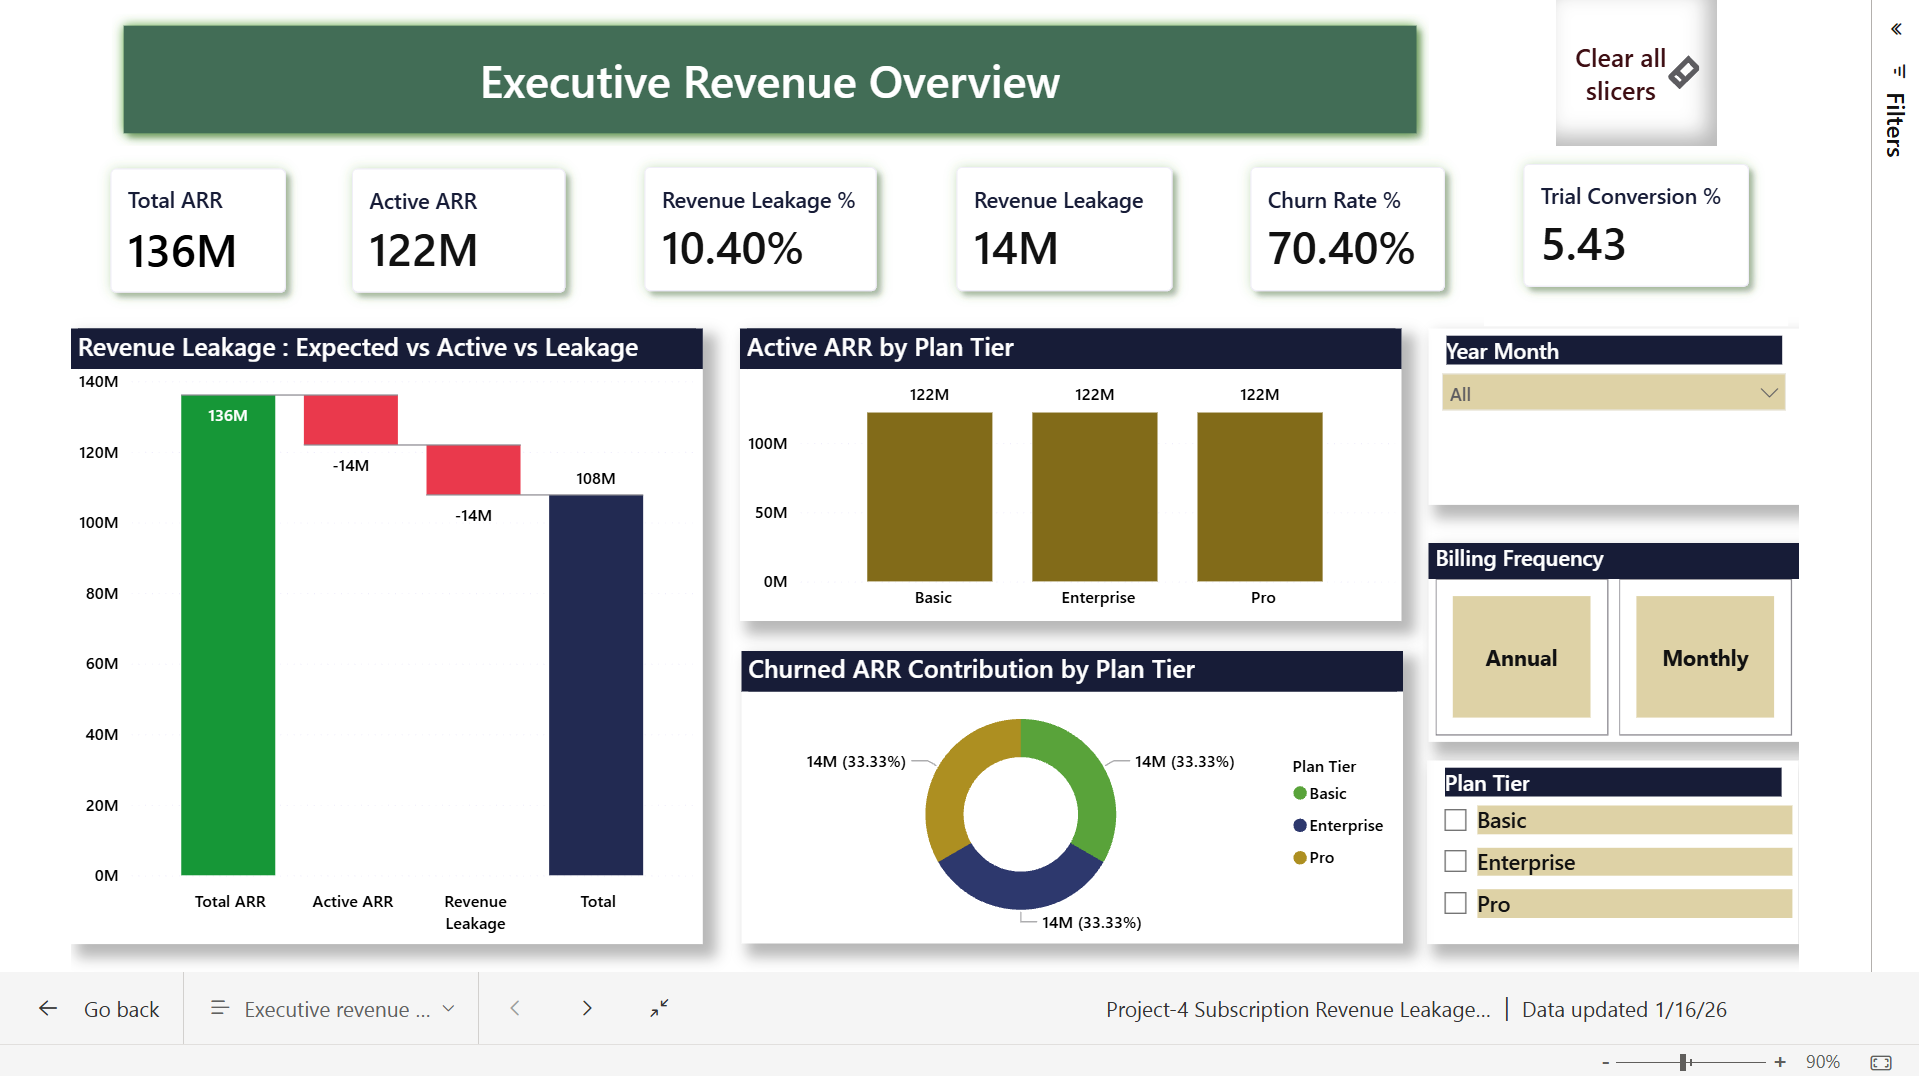

Layout of this report page (visuals, bound fields, positions):
{"tool":"powerbi","page":{"name":"Executive revenue Overview","canvas":[1280,720],"ordinal":0},"visuals":[{"type":"cardVisual","fields":{"Data":["_Measures.Active ARR"]},"box":[178.9,96.1,217,150.7],"z":0},{"type":"cardVisual","fields":{"Data":["_Measures.Total ARR"]},"box":[0,96.1,188.8,150.7],"z":1},{"type":"cardVisual","fields":{"Data":["_Measures.Revenue Leakage"]},"box":[626.1,94.4,218.7,150.7],"z":2},{"type":"cardVisual","fields":{"Data":["_Measures.Churn Rate %"]},"box":[844.8,94.4,202.1,150.7],"z":3},{"type":"cardVisual","fields":{"Data":["_Measures.Revenue Leakage %"]},"box":[395.9,94.4,230.3,150.7],"z":4},{"type":"waterfallChart","title":"Revenue Leakage : Expected vs  Active vs Leakage","fields":{"Category":["Revenue_Waterfall.Step"],"Y":["Dim_Account.Revenue Waterfall Value"]},"box":[0,243,467.8,455.7],"z":5},{"type":"advancedSlicerVisual","fields":{"Values":["Dim_Plan.Billing Frequency"]},"box":[1005.5,402.5,275,147.4],"z":6},{"type":"slicer","fields":{"Values":["Dim_Plan.Plan Tier"]},"box":[1004.6,563,275.4,135.7],"z":7},{"type":"slicer","fields":{"Values":["Dim_Date.Year Month"]},"box":[1005.5,243.5,275,130.9],"z":8},{"type":"clusteredColumnChart","title":"Active ARR by Plan Tier","fields":{"Category":["Dim_Plan.Plan Tier"],"Y":["_Measures.Active ARR"]},"box":[495.3,243.5,490.3,217],"z":9},{"type":"donutChart","title":"Churned ARR Contribution by Plan Tier","fields":{"Category":["Dim_Plan.Plan Tier"],"Y":["_Measures.Churned ARR"]},"box":[496.2,482,490.1,216.7],"z":10},{"type":"cardVisual","fields":{"Data":["_Measures.Trial Conversion %"]},"box":[1046.9,92.8,225.3,149.1],"z":11},{"type":"actionButton","box":[1099.9,0,119.3,107.7],"z":12},{"type":"shape","box":[29.8,9.9,975.7,97.7],"z":13}]}

Visuals, with their boxes on the page's 1280x720 design canvas (x1, y1, x2, y2). These are canvas units, not pixel positions in the 1919x1076 screenshot, which may show the page scaled, cropped or inside an application window:
cardVisual - _Measures.Active ARR: locate(179, 96, 396, 247)
cardVisual - _Measures.Total ARR: locate(0, 96, 189, 247)
cardVisual - _Measures.Revenue Leakage: locate(626, 94, 845, 245)
cardVisual - _Measures.Churn Rate %: locate(845, 94, 1047, 245)
cardVisual - _Measures.Revenue Leakage %: locate(396, 94, 626, 245)
"Revenue Leakage : Expected vs  Active vs Leakage" waterfallChart: locate(0, 243, 468, 699)
advancedSlicerVisual - Dim_Plan.Billing Frequency: locate(1006, 402, 1280, 550)
slicer - Dim_Plan.Plan Tier: locate(1005, 563, 1280, 699)
slicer - Dim_Date.Year Month: locate(1006, 244, 1280, 374)
"Active ARR by Plan Tier" clusteredColumnChart: locate(495, 244, 986, 460)
"Churned ARR Contribution by Plan Tier" donutChart: locate(496, 482, 986, 699)
cardVisual - _Measures.Trial Conversion %: locate(1047, 93, 1272, 242)
actionButton: locate(1100, 0, 1219, 108)
shape: locate(30, 10, 1006, 108)
